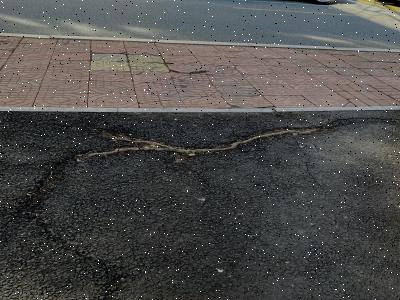Root: (78, 129, 316, 159), (112, 136, 165, 147)
